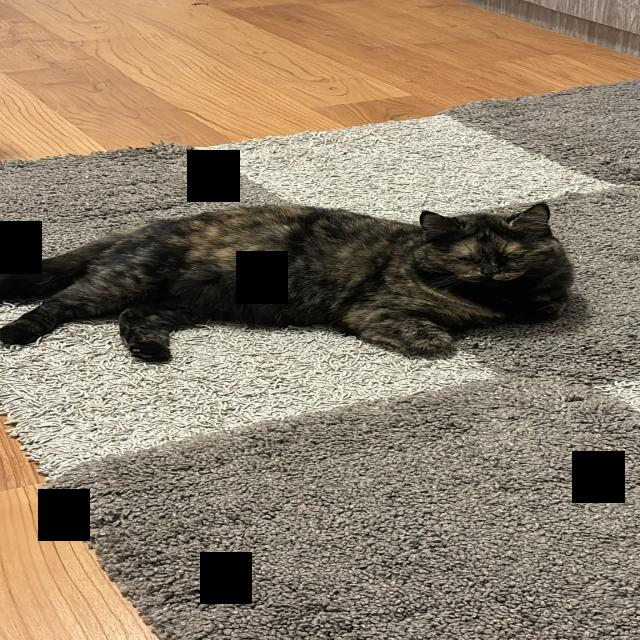authorized: (1, 202, 574, 362)
